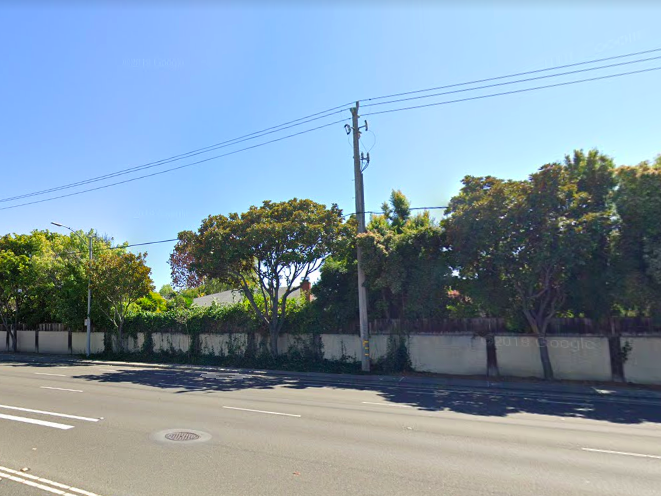tree: (438, 161, 606, 382), (165, 196, 349, 363)
utility_pole: (338, 95, 376, 186)
